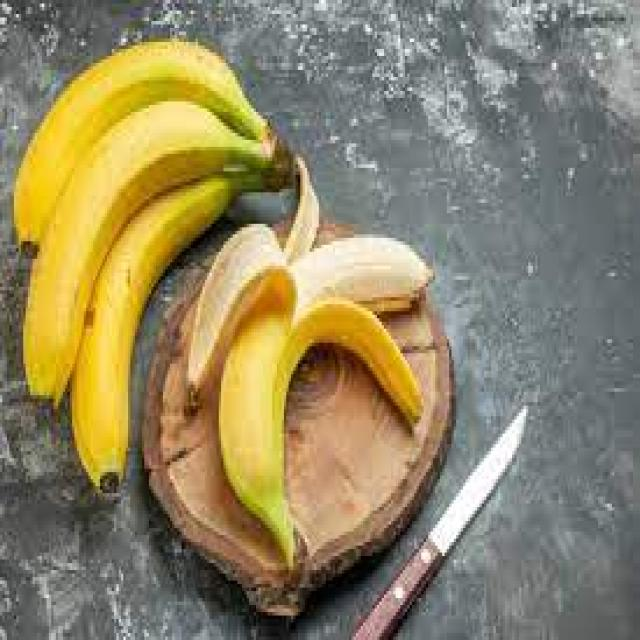Banana: (203, 160, 431, 568), (24, 101, 273, 399), (71, 177, 235, 491), (15, 43, 267, 243)
